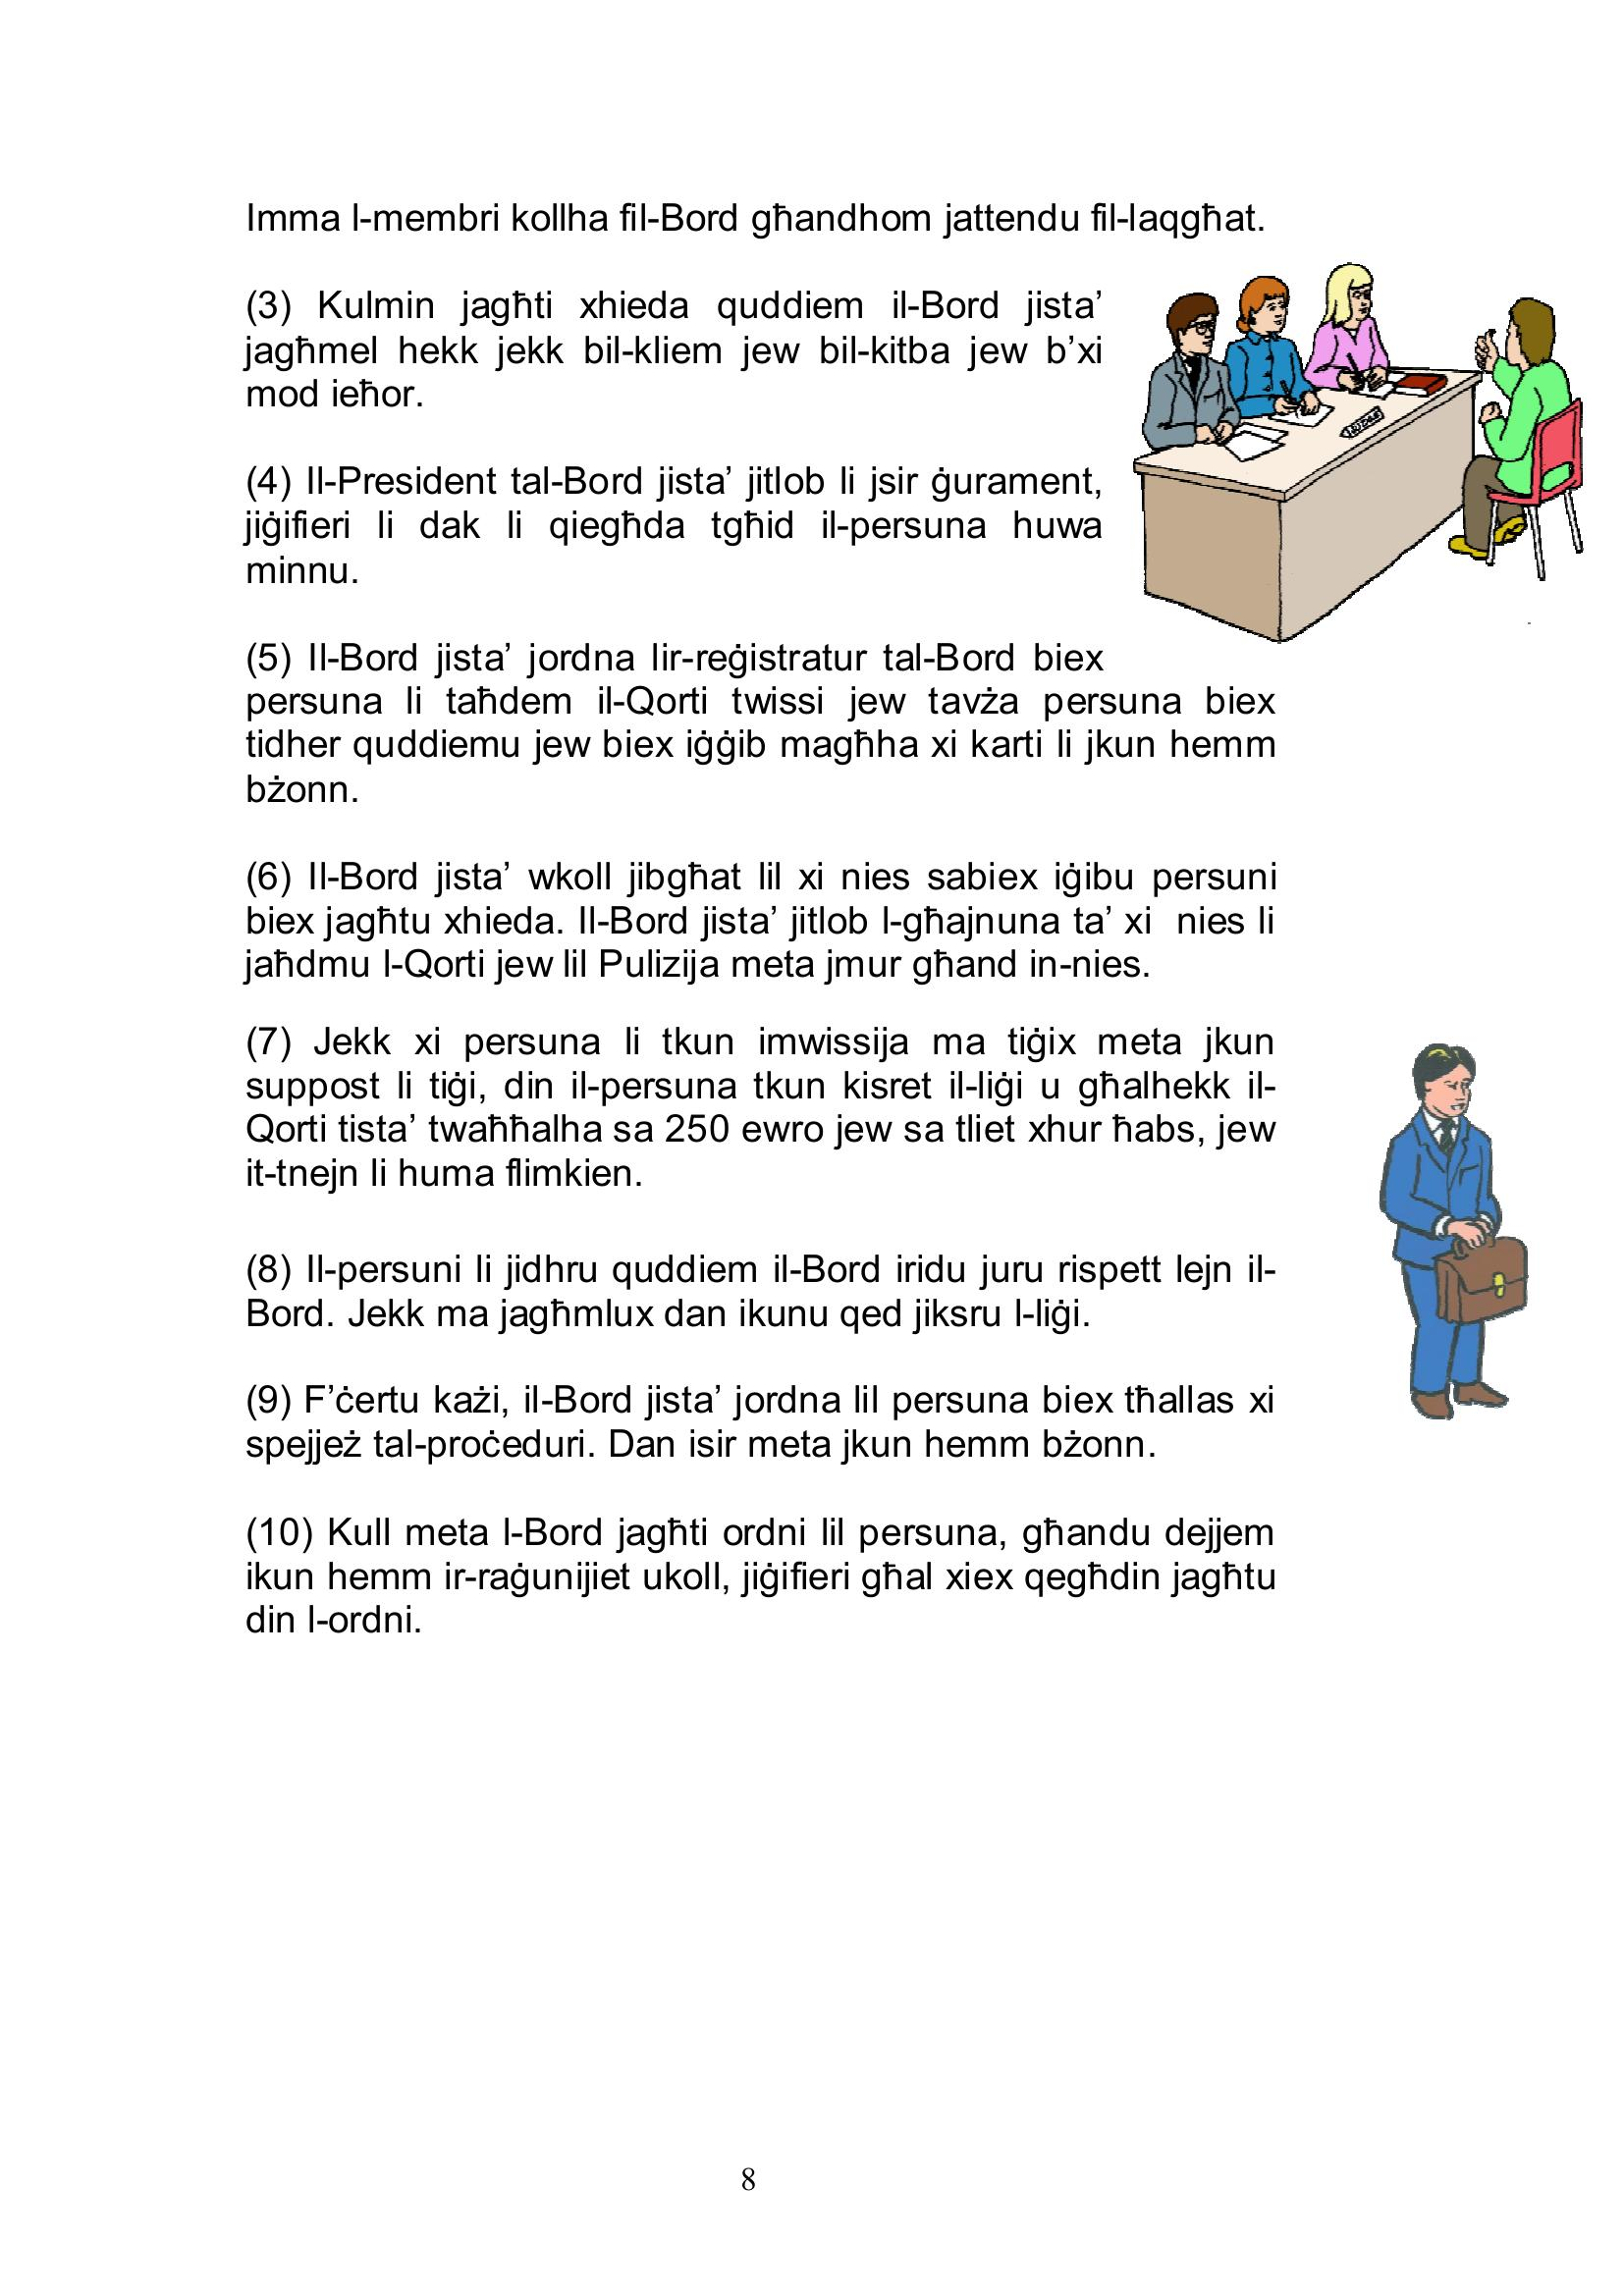text: (202, 179, 1313, 1693)
whiteout: (1120, 256, 1612, 655)
